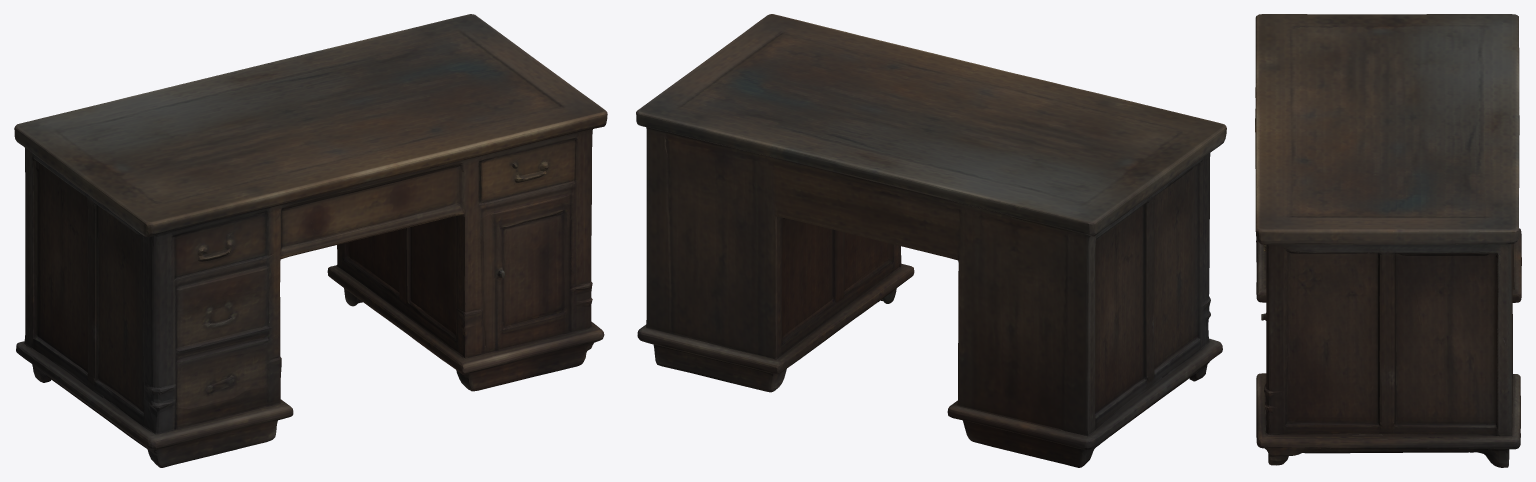
File: Bureau chêne.glb
3 views of the same model, side by side, from view 1: azimuth 30°, elevation 25°; view 2: azimuth 150°, elevation 25°; view 3: azimuth 270°, elevation 25° (orthographic). The views are drawn at different scales.
Visible parts, largest first — view 1: world; view 2: world; view 3: world.
Part boxes in pixels (bbox=[...]): world: bbox=[14, 14, 607, 467]; world: bbox=[636, 14, 1226, 467]; world: bbox=[1255, 14, 1521, 467].
Bounding box in the file's own units: 0.9998 × 0.528 × 0.5184.
1 material, 1 textured.
